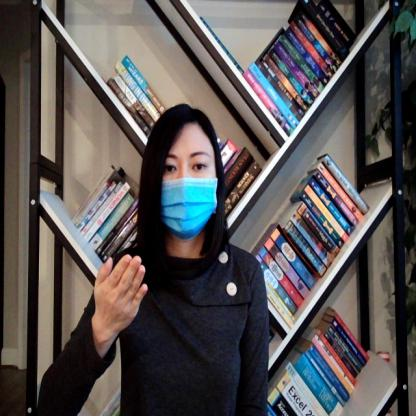thanks: (92, 254, 146, 339)
